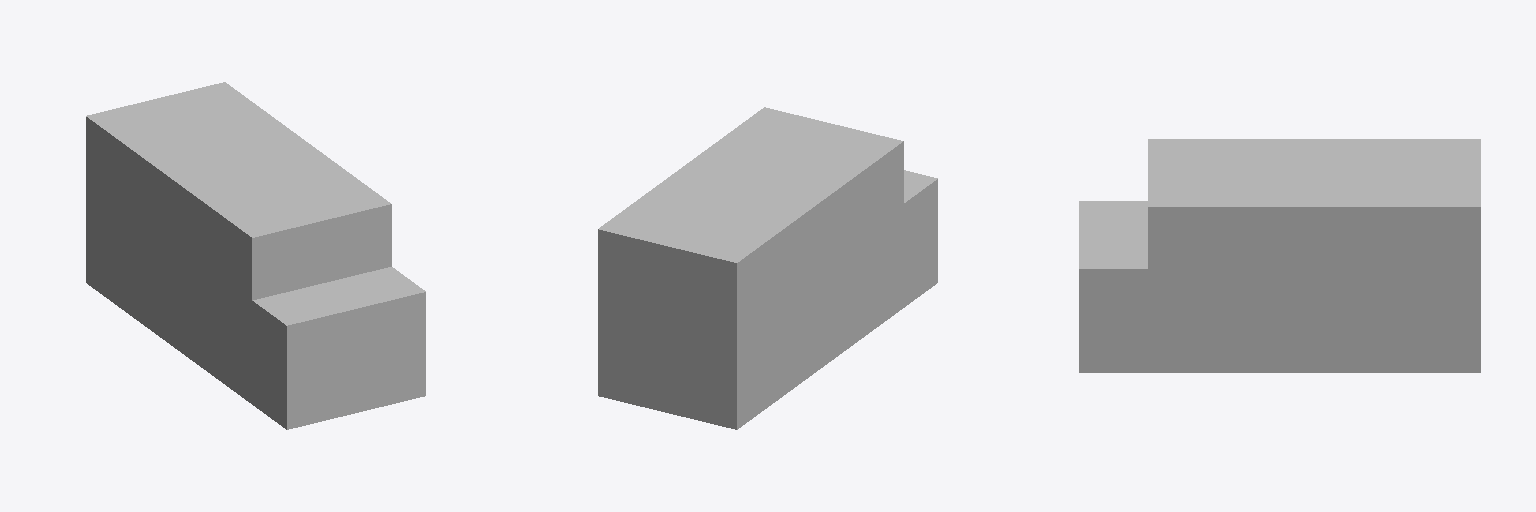
Rendered from car1.obj.
3 renders of one model, left to right at view 1: azimuth 30°, elevation 25°; view 2: azimuth 150°, elevation 25°; view 3: azimuth 270°, elevation 25°, orthographic.
Visible parts, largest first — view 1: Untitled; view 2: Untitled; view 3: Untitled.
Boxes of the visible parts, box(x1,y1,x2,y2) form: Untitled: box(86, 82, 425, 429); Untitled: box(598, 107, 937, 429); Untitled: box(1079, 139, 1480, 372).
Size of the model in its own units: 1.4 by 1.6 by 3.5.